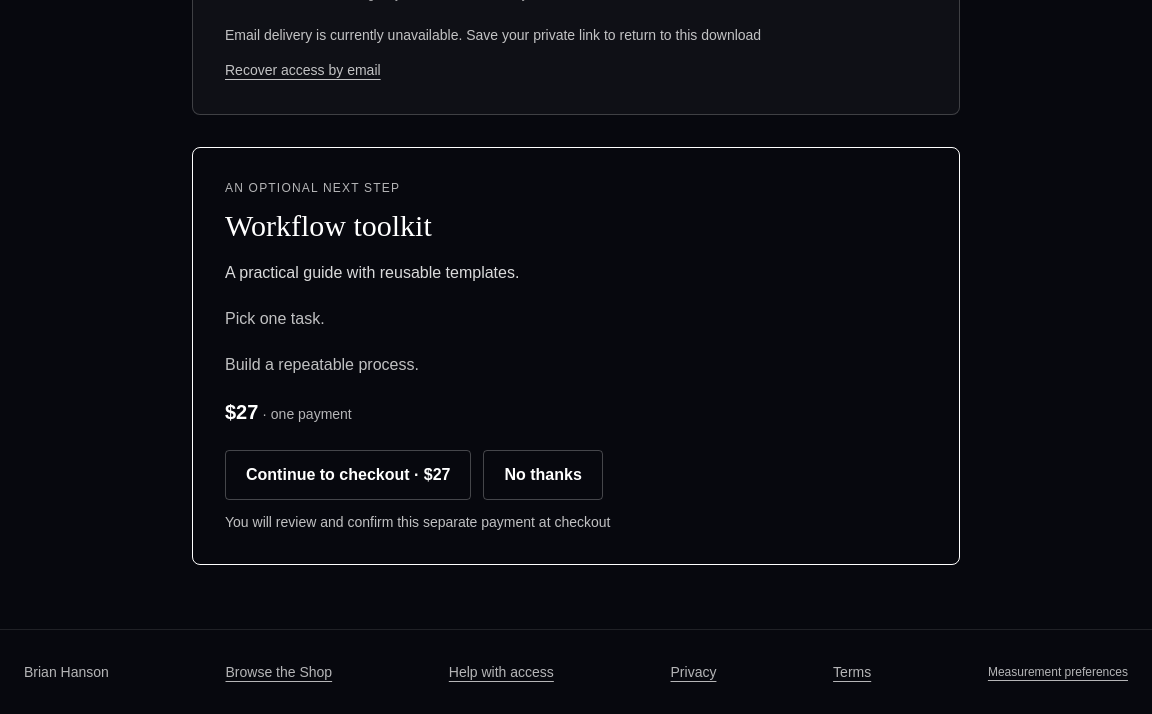
it: offer visitor journey › passes a new token and original access proof for explicit upsell retries
Later steps or results of the test are not shown.
(page scrolled)
What coordinates should you click on to do the following:
click the button "Continue to checkout · $27"
I would click on:
 (348, 474)
Its box is x1=225 y1=450 x2=472 y2=500.
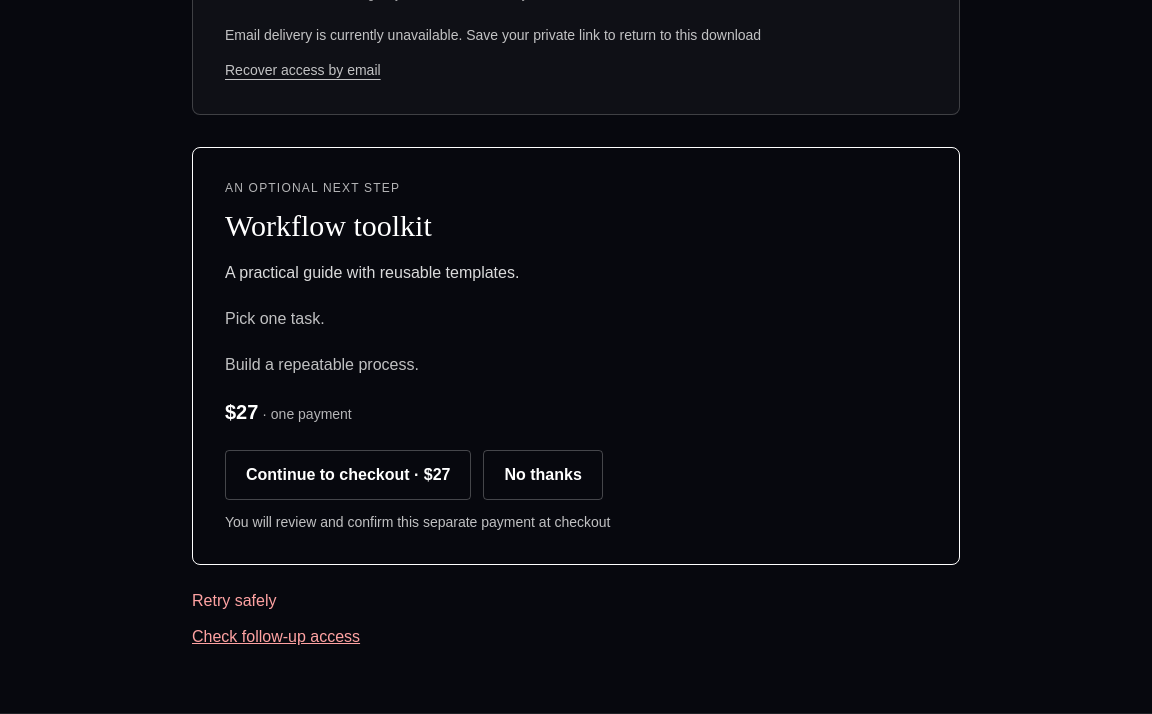
Check: the message "Retry safely Check follow-up access" is shown, box x1=192 y1=592 x2=360 y2=644
